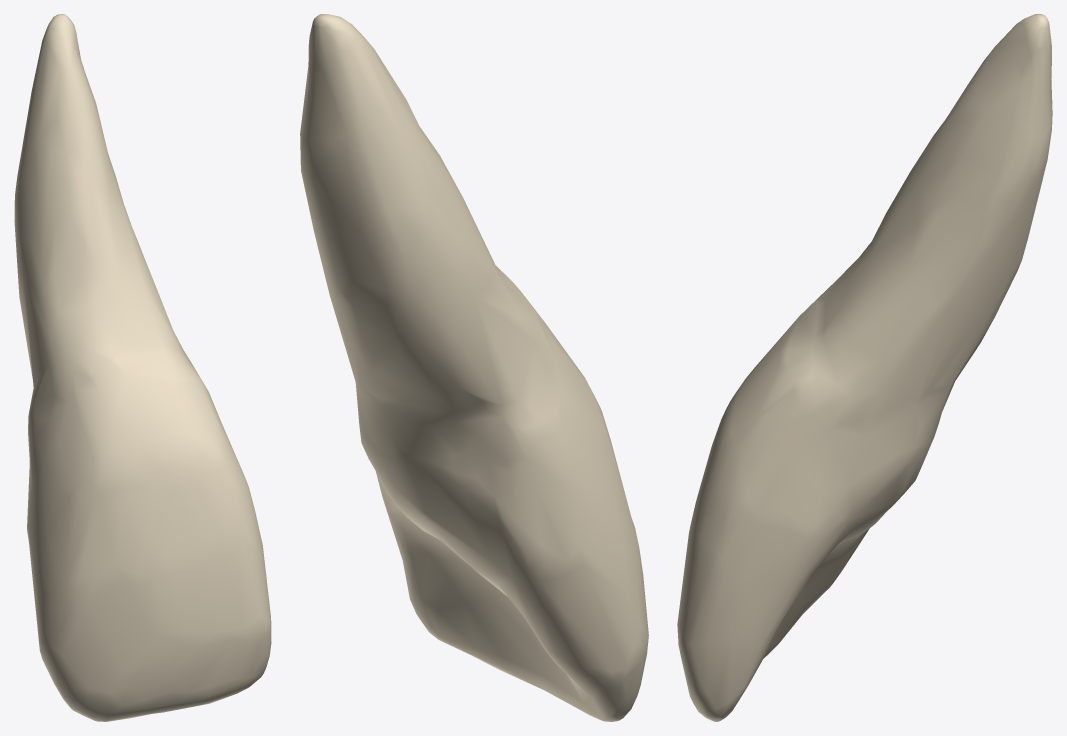
File: upper-medial-incisor-r.glb
The picture shows the model from 3 angles, left to right: view 1: azimuth 30°, elevation 25°; view 2: azimuth 150°, elevation 25°; view 3: azimuth 270°, elevation 25°; orthographic projection. The views are drawn at different scales.
Visible parts, largest first — view 1: Upper medial incisor.r; view 2: Upper medial incisor.r; view 3: Upper medial incisor.r.
Boxes of the visible parts, left/top/right/bottom form: Upper medial incisor.r: left=14, top=14, right=271, bottom=721; Upper medial incisor.r: left=300, top=14, right=648, bottom=721; Upper medial incisor.r: left=677, top=14, right=1052, bottom=721.
Size of the model in its own units: 0.00878 by 0.0258 by 0.0126.
